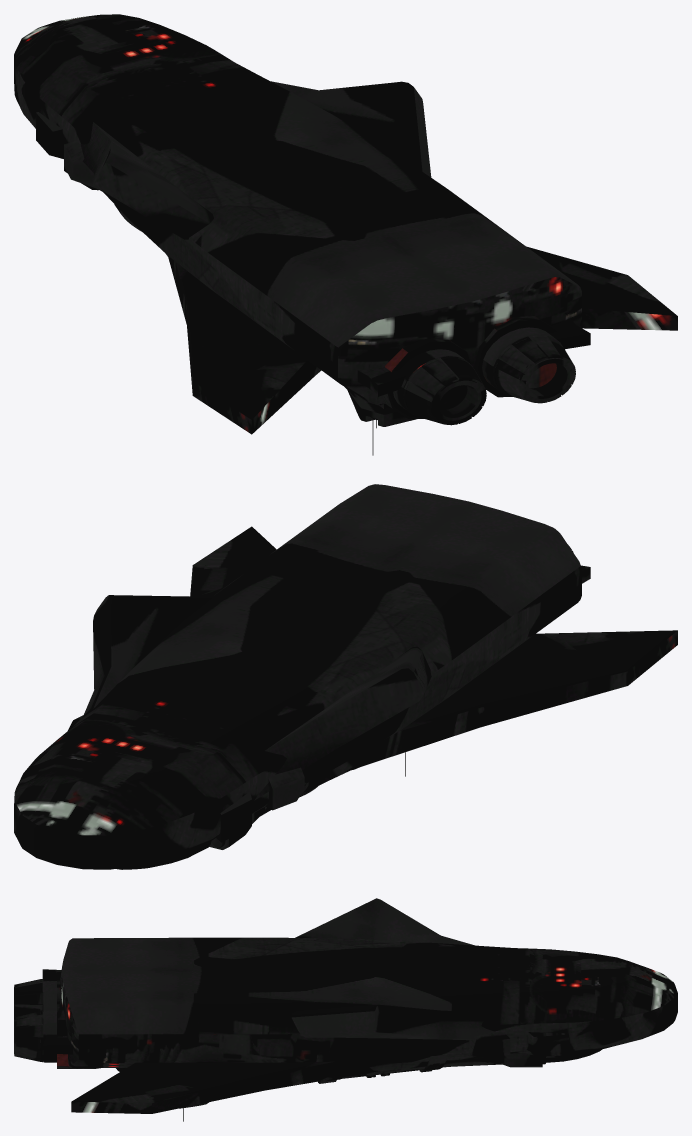
File: EmissaryCruiser.fbx
3 views of the same model, one above another, from view 1: azimuth 30°, elevation 25°; view 2: azimuth 150°, elevation 25°; view 3: azimuth 270°, elevation 25° (orthographic). The views are drawn at different scales.
Parts seen in each view (by area): view 1: cruiser_realtimetest; view 2: cruiser_realtimetest; view 3: cruiser_realtimetest.
Boxes of the visible parts, x1,y1,x2,y2 form: cruiser_realtimetest: (14,14,677,455); cruiser_realtimetest: (14,484,677,869); cruiser_realtimetest: (14,898,677,1121).
Size of the model in its own units: 280 by 145 by 500.
Materials: 1 (1 with a texture image).
